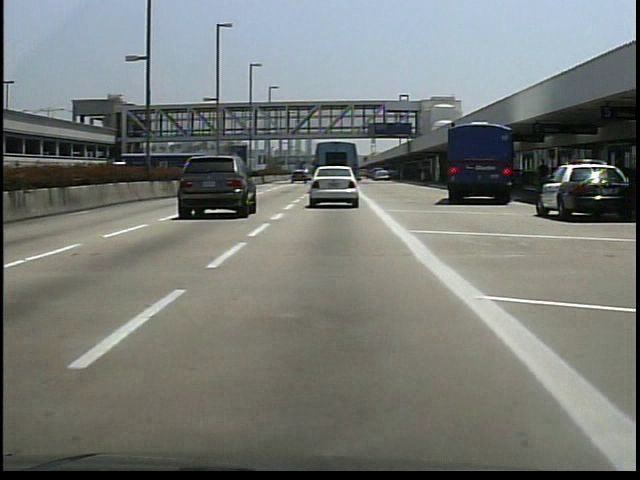person: (534, 154, 554, 201)
